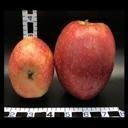apple: (8, 37, 54, 99)
